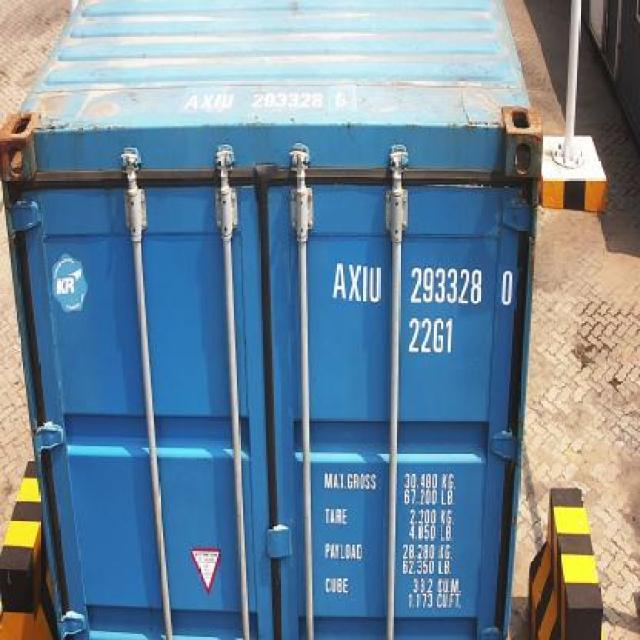ISO: (406, 317, 452, 352)
container_number: (333, 267, 508, 297)
